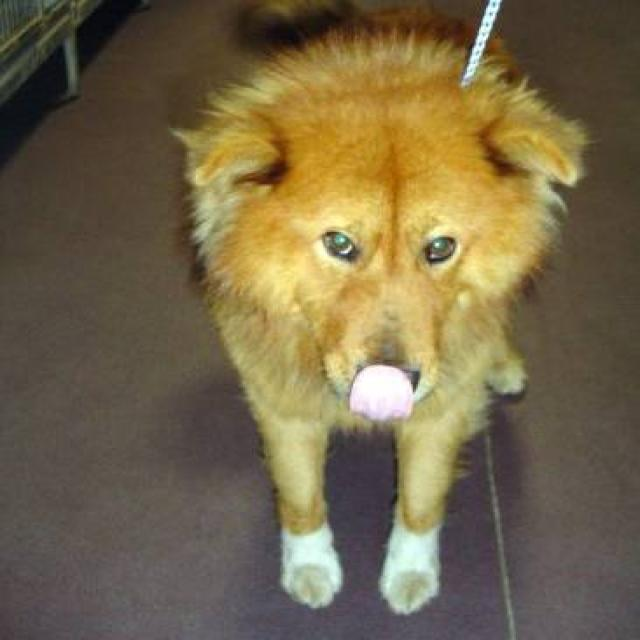dog: (168, 5, 589, 614)
